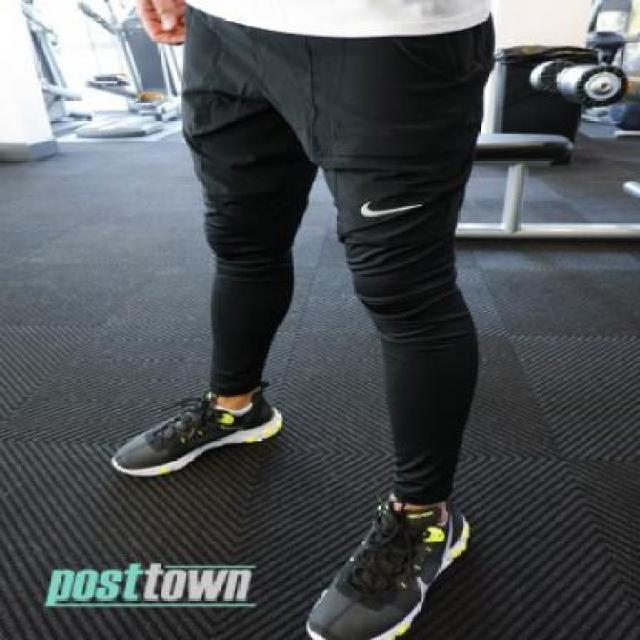Nike: (355, 200, 420, 217)
